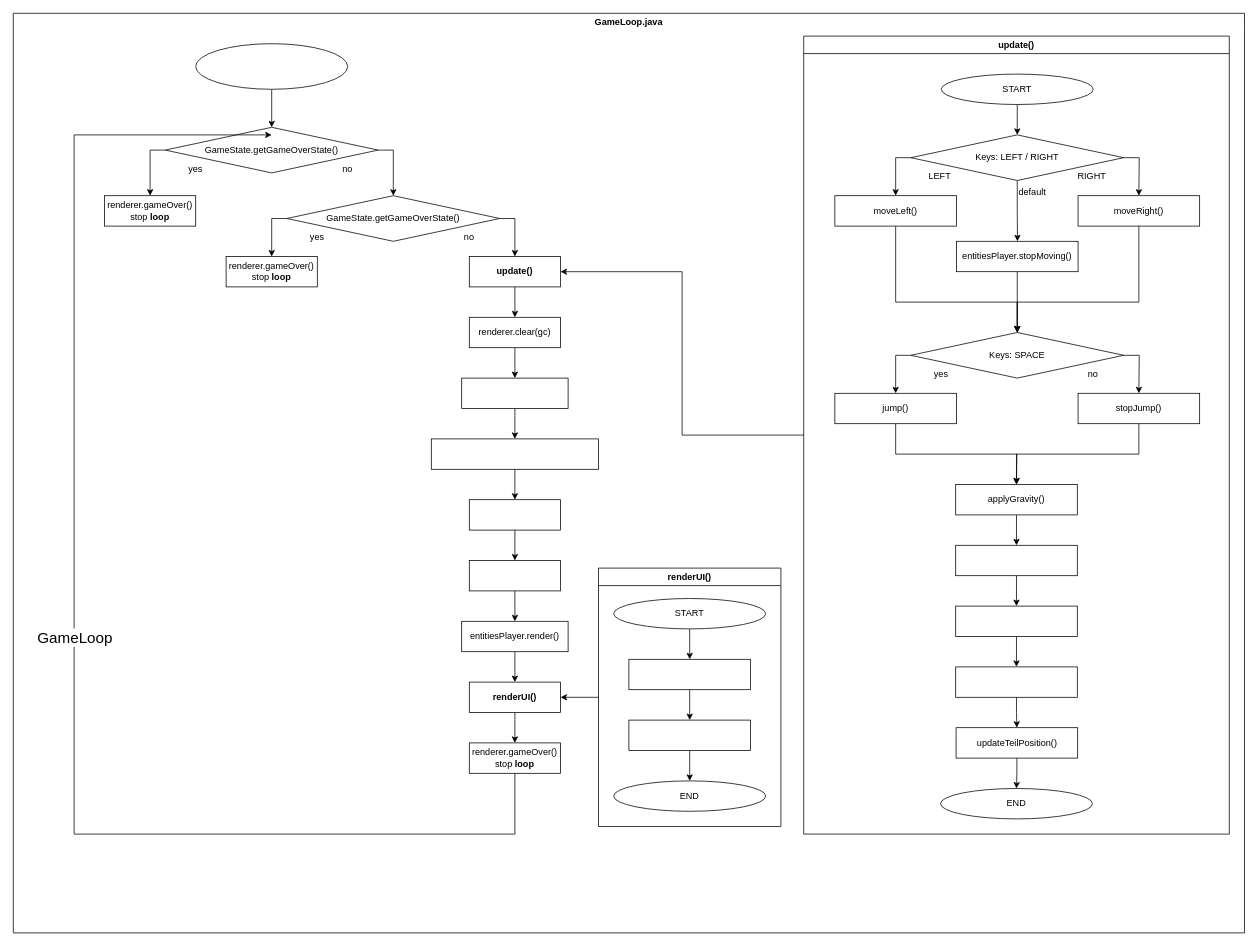
This 1258x946 diagram has some shape labels left out. The centre of each missing label's shape, as x and y in pixels:
camera.update(entitiesPlayer coords): (514,453)
checkObjectCollision(): (1016,681)
jumpLimit(): (1016,560)
level.renderGround(): (514,514)
level.renderObject(): (514,575)
renderer.renderParallax(): (514,392)
renderUIKeys(gc, renderer): (689,734)
renderUILifes(gc, renderer): (689,674)
START AnimationTimer.handle(): (271,66)
updatePosition(): (1016,620)
